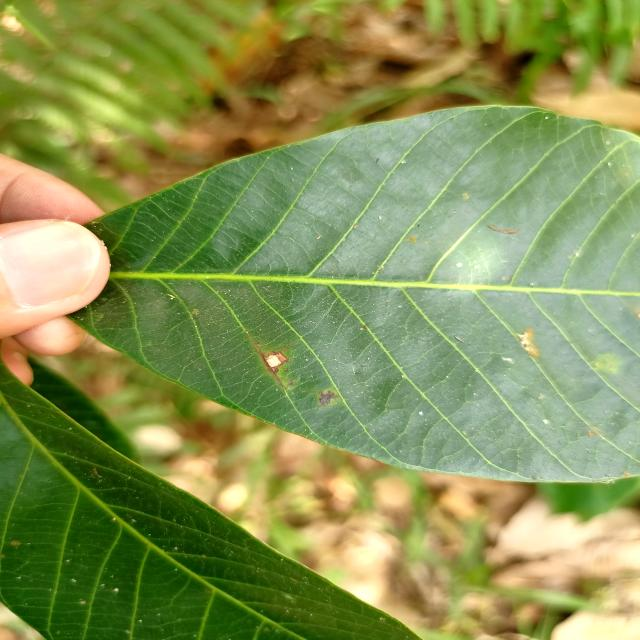Corynespora: (248, 333, 290, 387)
Leaf-Blight: (265, 355, 281, 367)
